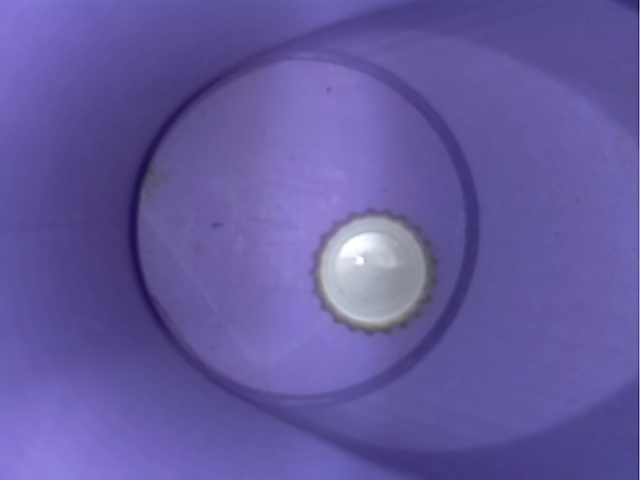capsule: (294, 197, 452, 350)
